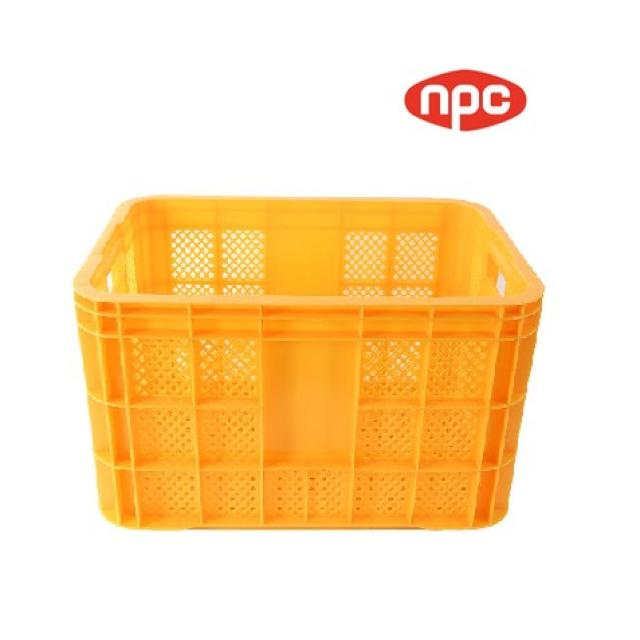basket: (74, 199, 544, 531)
